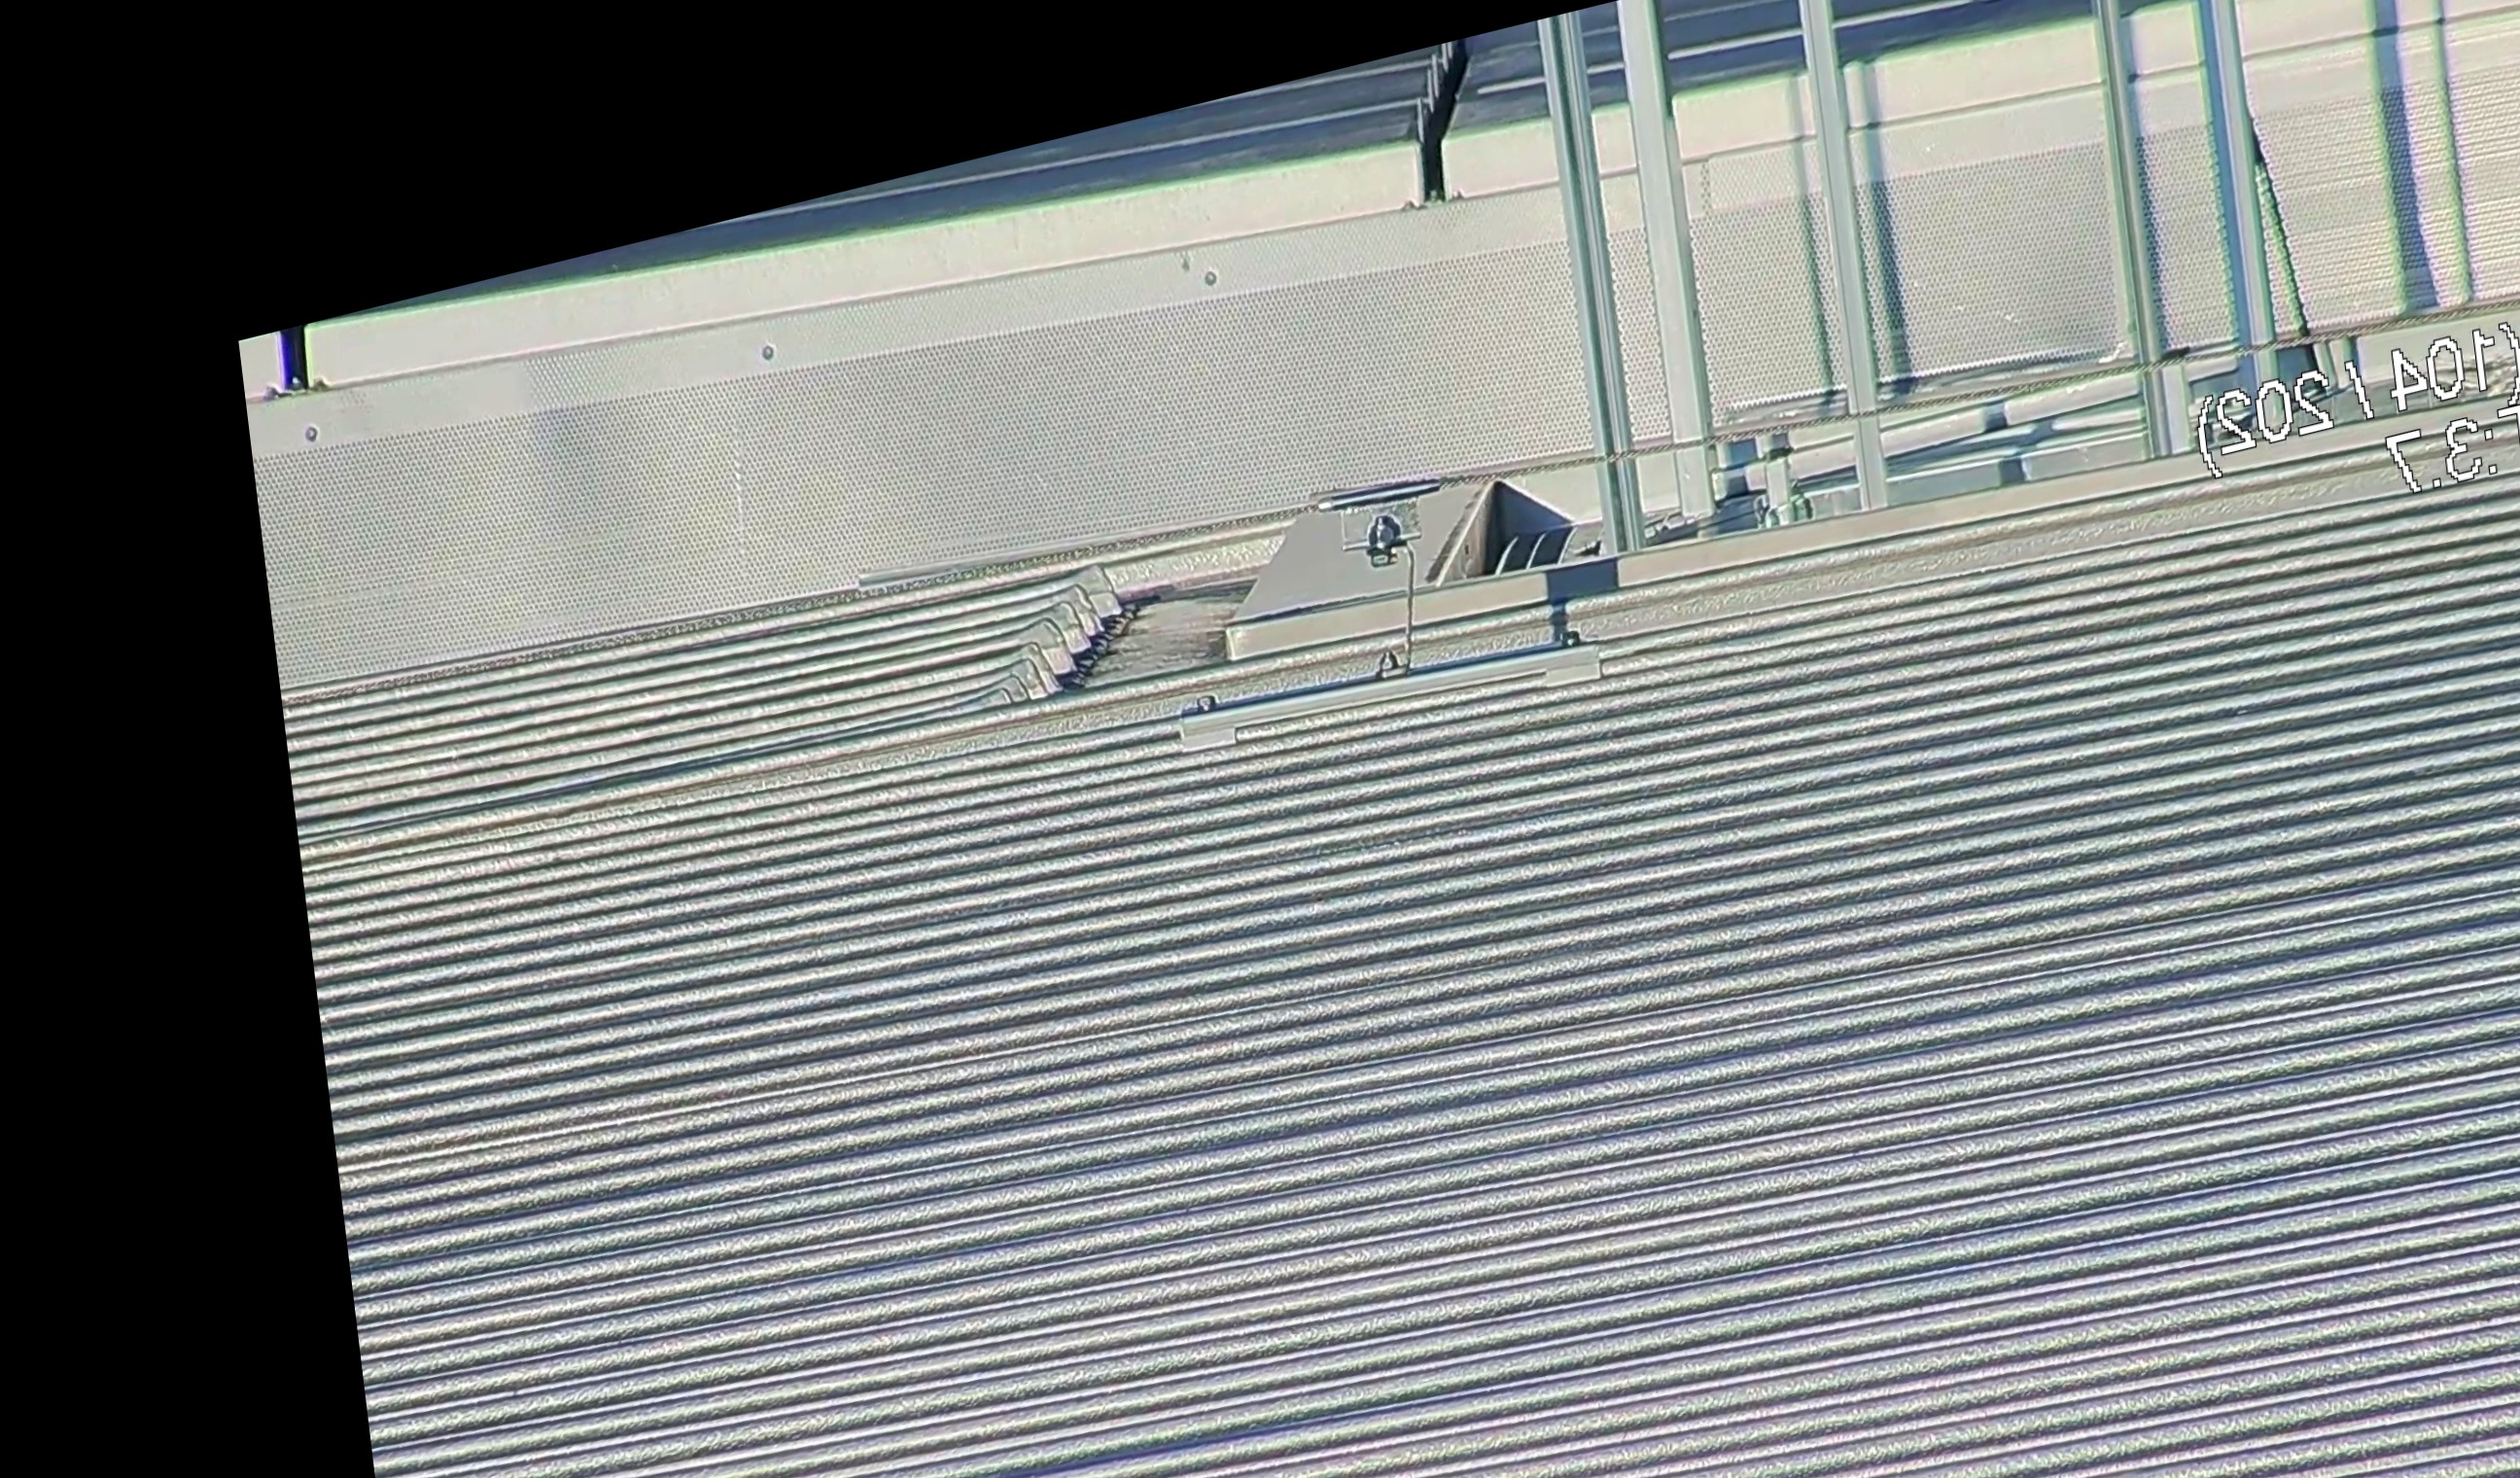Other: (1366, 0, 1514, 220)
